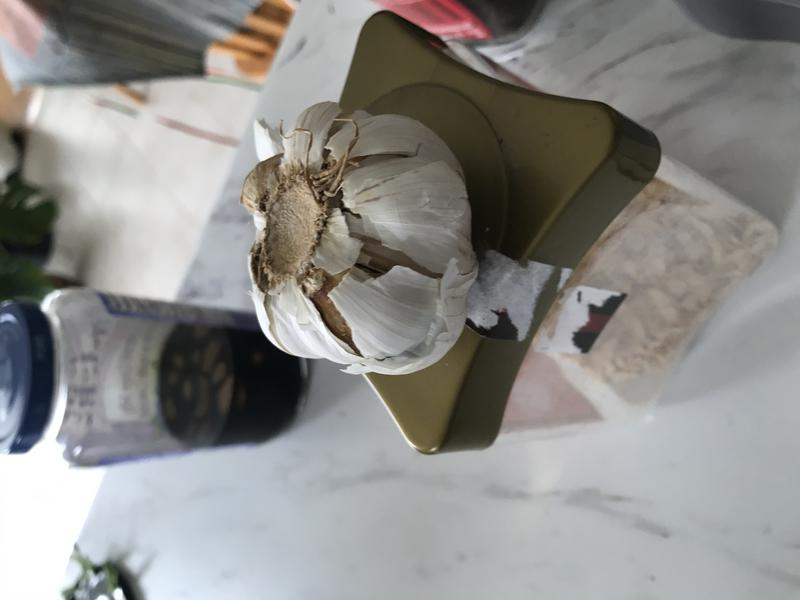garlic: (236, 103, 478, 383)
